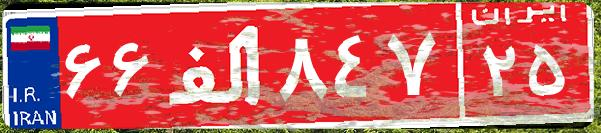2: (475, 38, 525, 113)
4: (330, 28, 385, 110)
5: (525, 38, 570, 115)
6: (57, 26, 110, 107), (110, 28, 158, 105)
7: (385, 28, 445, 110)
8: (273, 28, 330, 110)
الف: (158, 15, 273, 115)
